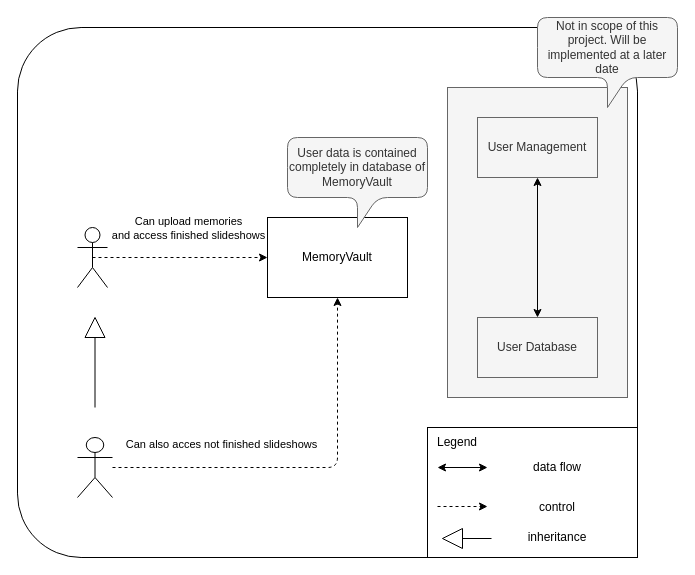
Image size: 695x575. Some labels were removed from this diagram. Here are the shapes that lost their labels. From the top down, the centre of each, then its label:
the point at 92,257: User
the point at 94,467: Admin
